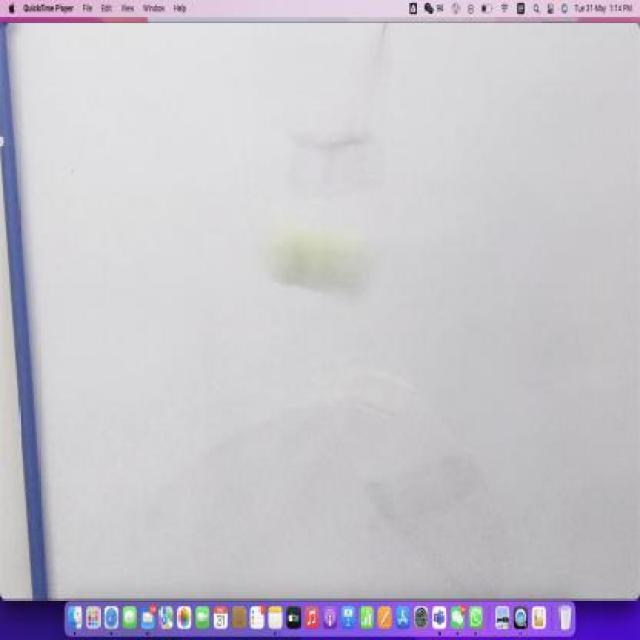baseball: (261, 213, 376, 298)
